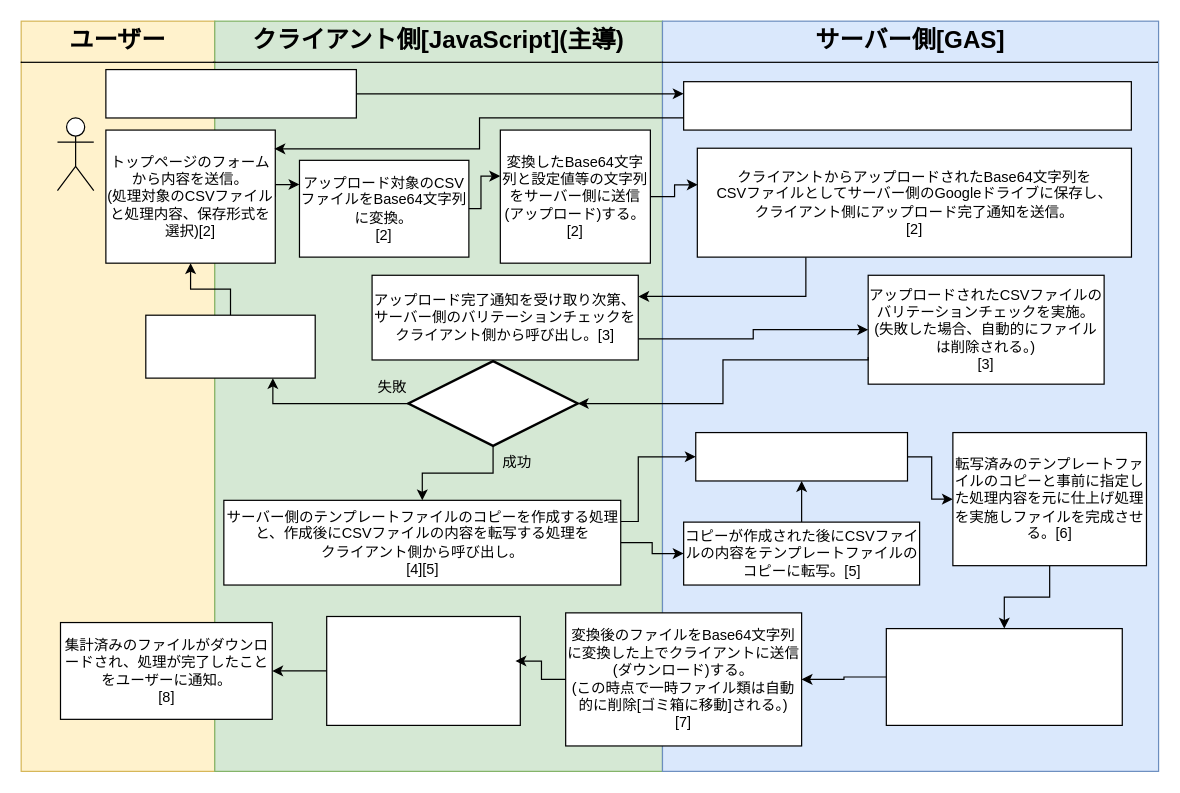
Image size: 1180x793. Some labels were removed from this diagram. Each missing label, with the centre of its shape:
"Webブラウザ等からアクセス[1]" goes at point (230, 93).
"エラーを通知し、処理が中止される。[3]" goes at point (230, 346).
"クライアントにトップページとクライアント側スクリプトを送信し表示。 [1]" goes at point (906, 105).
"サーバー側から受け取ったBase64文字列をファイルに変換した上でダウンロード先のフォルダに移動。[7]" goes at point (422, 670).
"テンプレートファイルのコピーを作成[4]" goes at point (801, 456).
"バリテーション チェックの結果" goes at point (492, 402).
"完成したファイルを事前に指定した保存形式に合わせて変換。[7]" goes at point (1003, 676).
